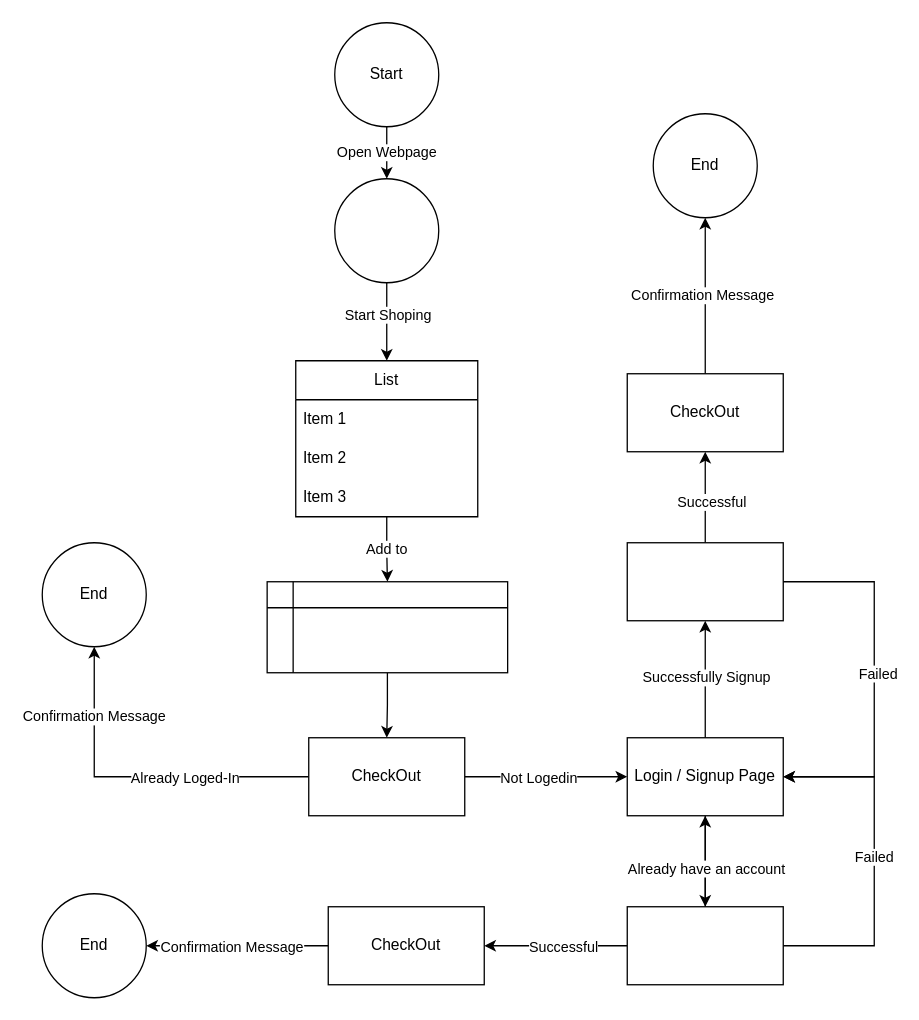
The diagram is 919 pixels wide and 1020 high, and some of its shapes have lost their labels. Here are the shapes that lost their labels. From the top down, the centre of each, then its label:
At (386,230): "Shop Page".
At (704,581): "Login Page".
At (387,626): "CART".
At (704,945): "Login".
